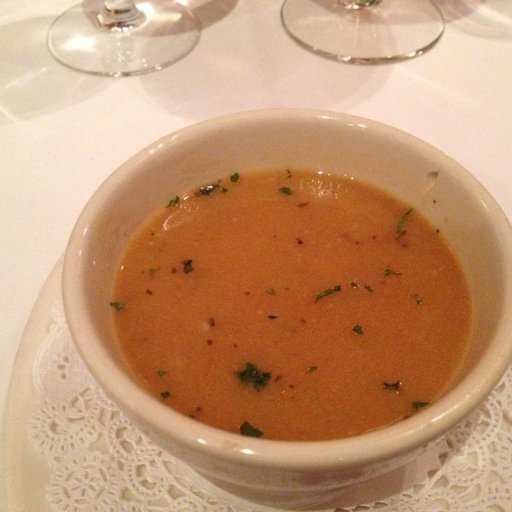soup: (96, 161, 475, 444)
